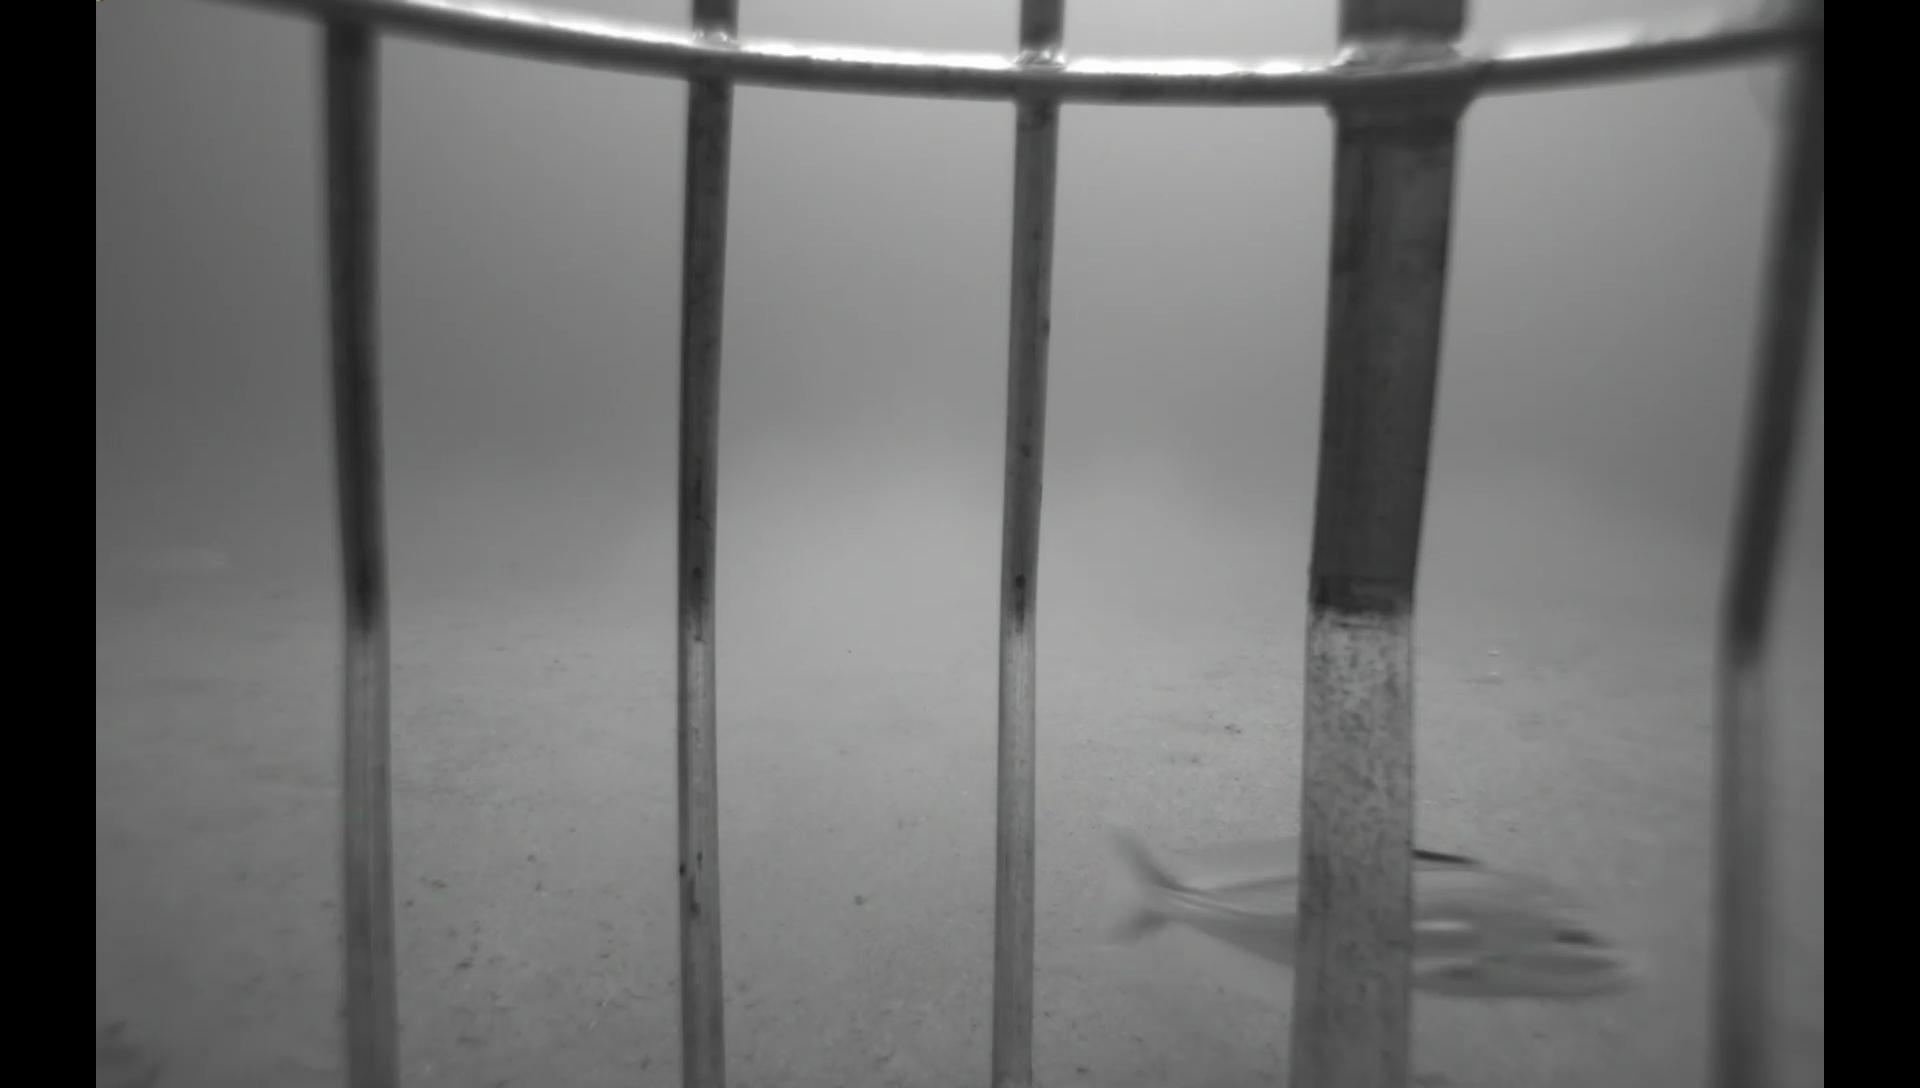CAULOLATILUSCYANOPS-170070101: (1073, 803, 1656, 1017)
PRISTIPOMOIDES-170151800: (123, 535, 243, 589)
SYACIUM-183011000: (1139, 702, 1245, 744)
